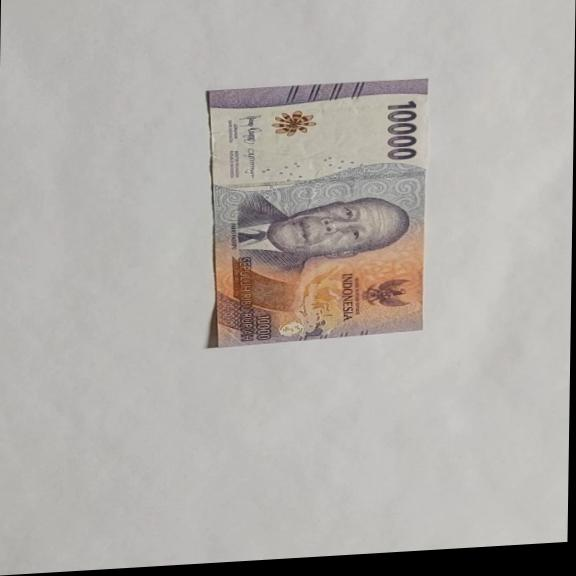Kertas: (203, 77, 430, 349), (384, 99, 421, 162)
